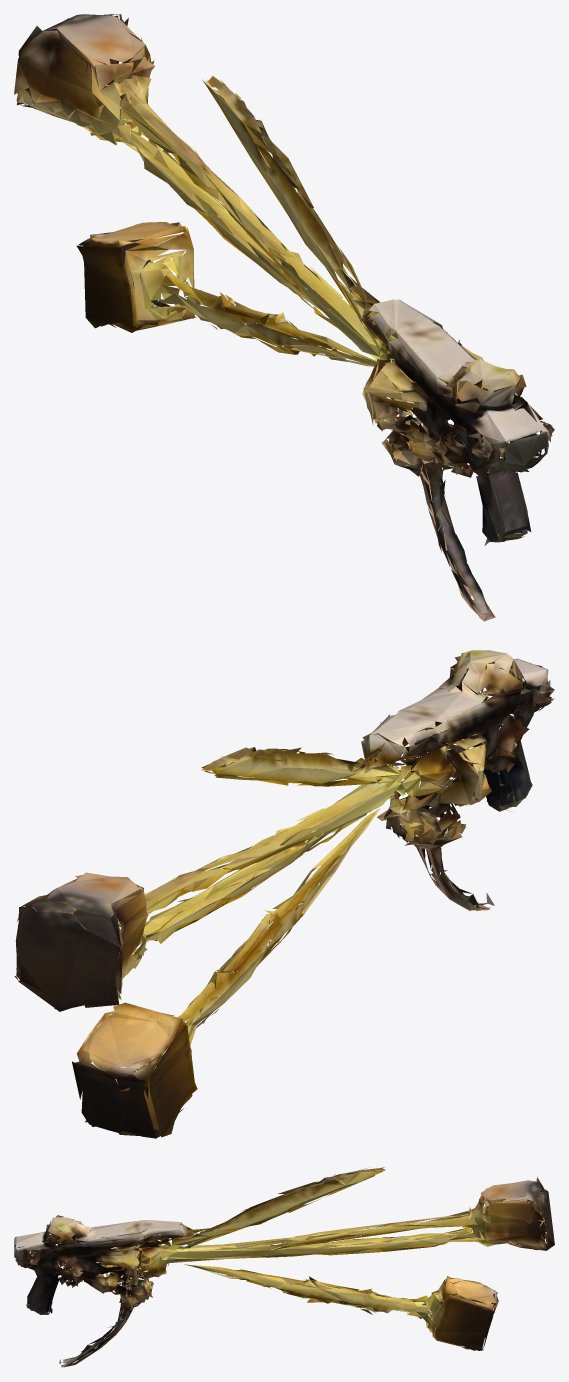
File: nexus_tether.glb
The picture shows the model from 3 angles, top to bottom: view 1: azimuth 30°, elevation 25°; view 2: azimuth 150°, elevation 25°; view 3: azimuth 270°, elevation 25°; orthographic projection. The views are drawn at different scales.
Visible parts, largest first — view 1: geometry_0; view 2: geometry_0; view 3: geometry_0.
Boxes of the visible parts, x1,y1,x2,y2 form: geometry_0: (14,14,554,621); geometry_0: (14,650,554,1138); geometry_0: (14,1167,554,1367).
Bounding box in the file's own units: 0.2948 × 0.797 × 1.98.
Materials: 1 (1 with a texture image).
